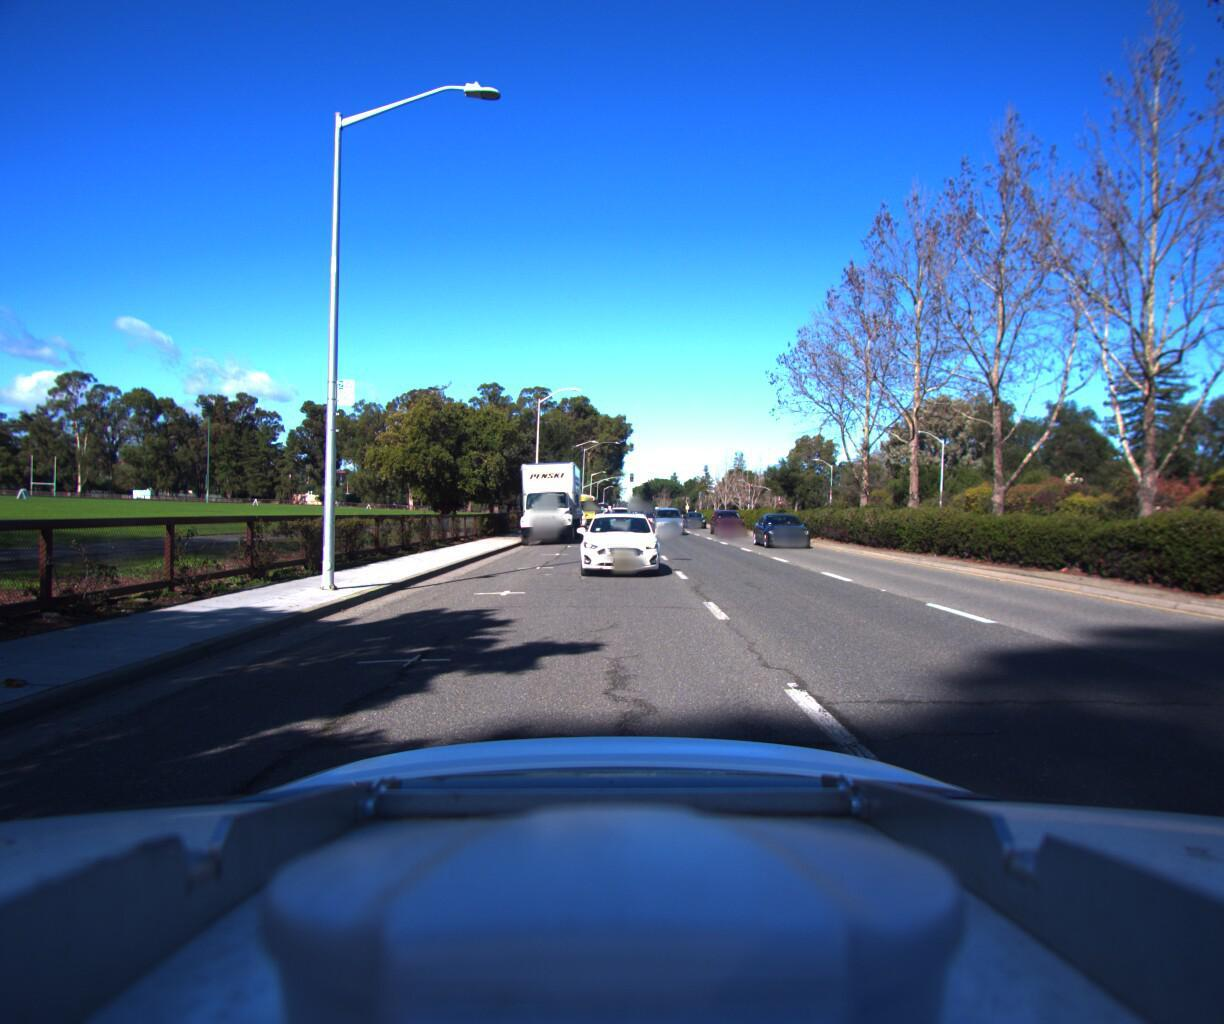bus: (567, 489, 596, 525)
car: (570, 501, 666, 580), (755, 506, 822, 548), (650, 503, 691, 534), (710, 506, 752, 534), (683, 508, 711, 526)
truck: (506, 451, 584, 545)
